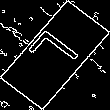L_SE: (24, 27, 86, 83)
